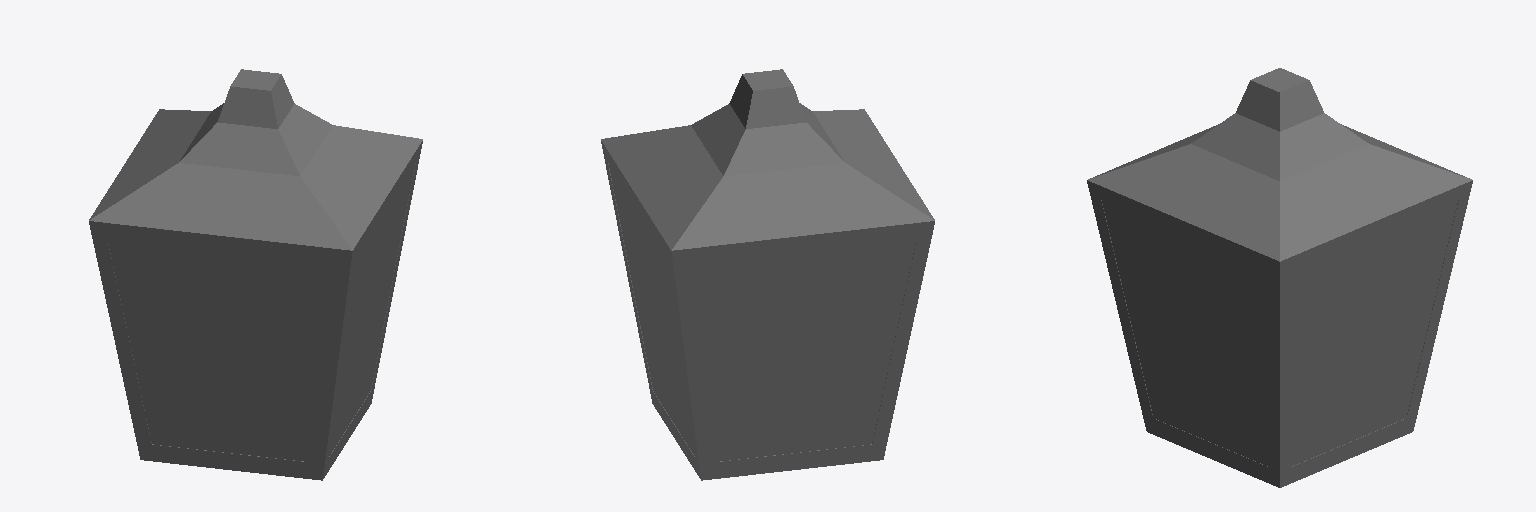
3 views of the same model, side by side, from view 1: azimuth 30°, elevation 25°; view 2: azimuth 150°, elevation 25°; view 3: azimuth 270°, elevation 25° (orthographic).
Visible parts, largest first — view 1: Lamp_Basket_Low; view 2: Lamp_Basket_Low; view 3: Lamp_Basket_Low.
Part boxes in pixels (left/top/right/bottom): Lamp_Basket_Low: left=89, top=69, right=422, bottom=480; Lamp_Basket_Low: left=601, top=69, right=934, bottom=480; Lamp_Basket_Low: left=1087, top=68, right=1472, bottom=487.
Bounding box in the file's own units: 94.05 × 94.41 × 94.05.